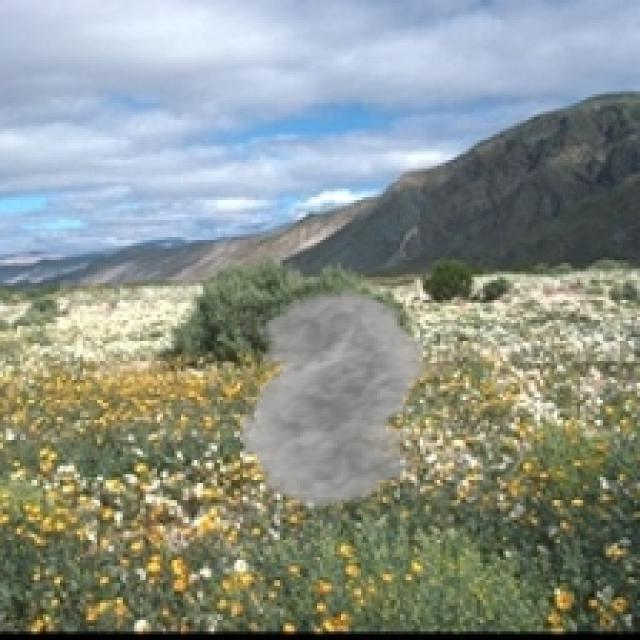Smoke: (217, 288, 454, 508)
